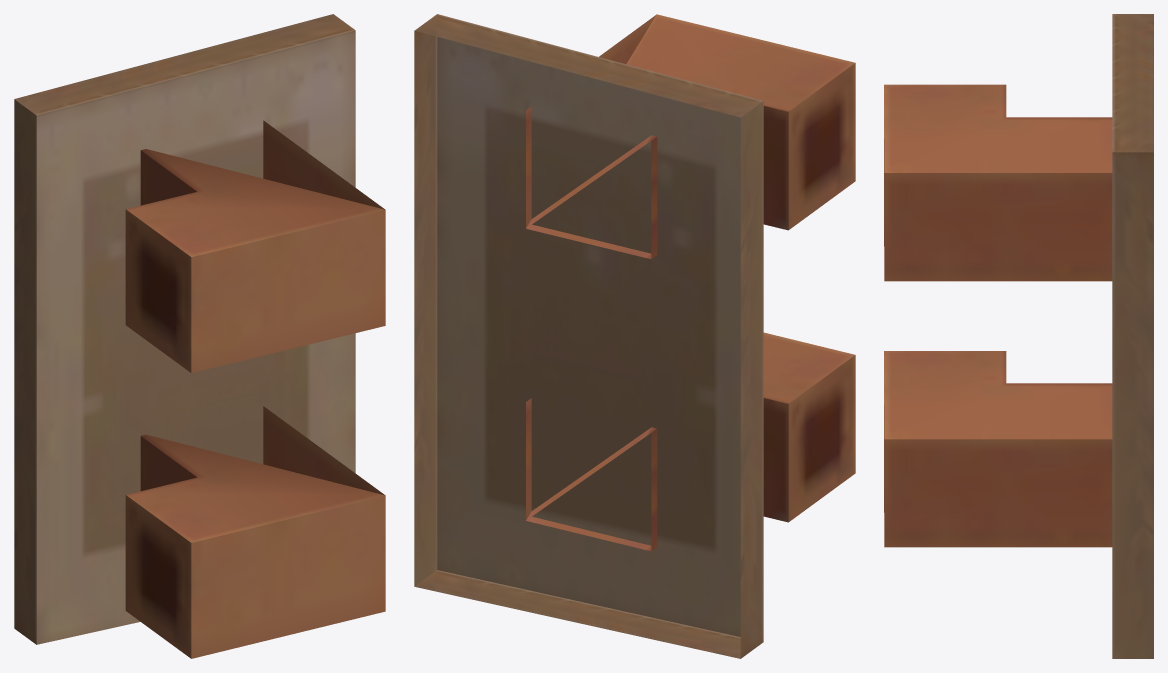
Rendered from sundries_15_7fc59895__ZombiesII_depot_diffuse_07_f609ceb1_c1f257.obj.
3 views of the same model, side by side, from view 1: azimuth 30°, elevation 25°; view 2: azimuth 150°, elevation 25°; view 3: azimuth 270°, elevation 25° (orthographic). The views are drawn at different scales.
Bounding box in the file's own units: 1.85 × 3.01 × 1.45.
1 material, 1 textured.
